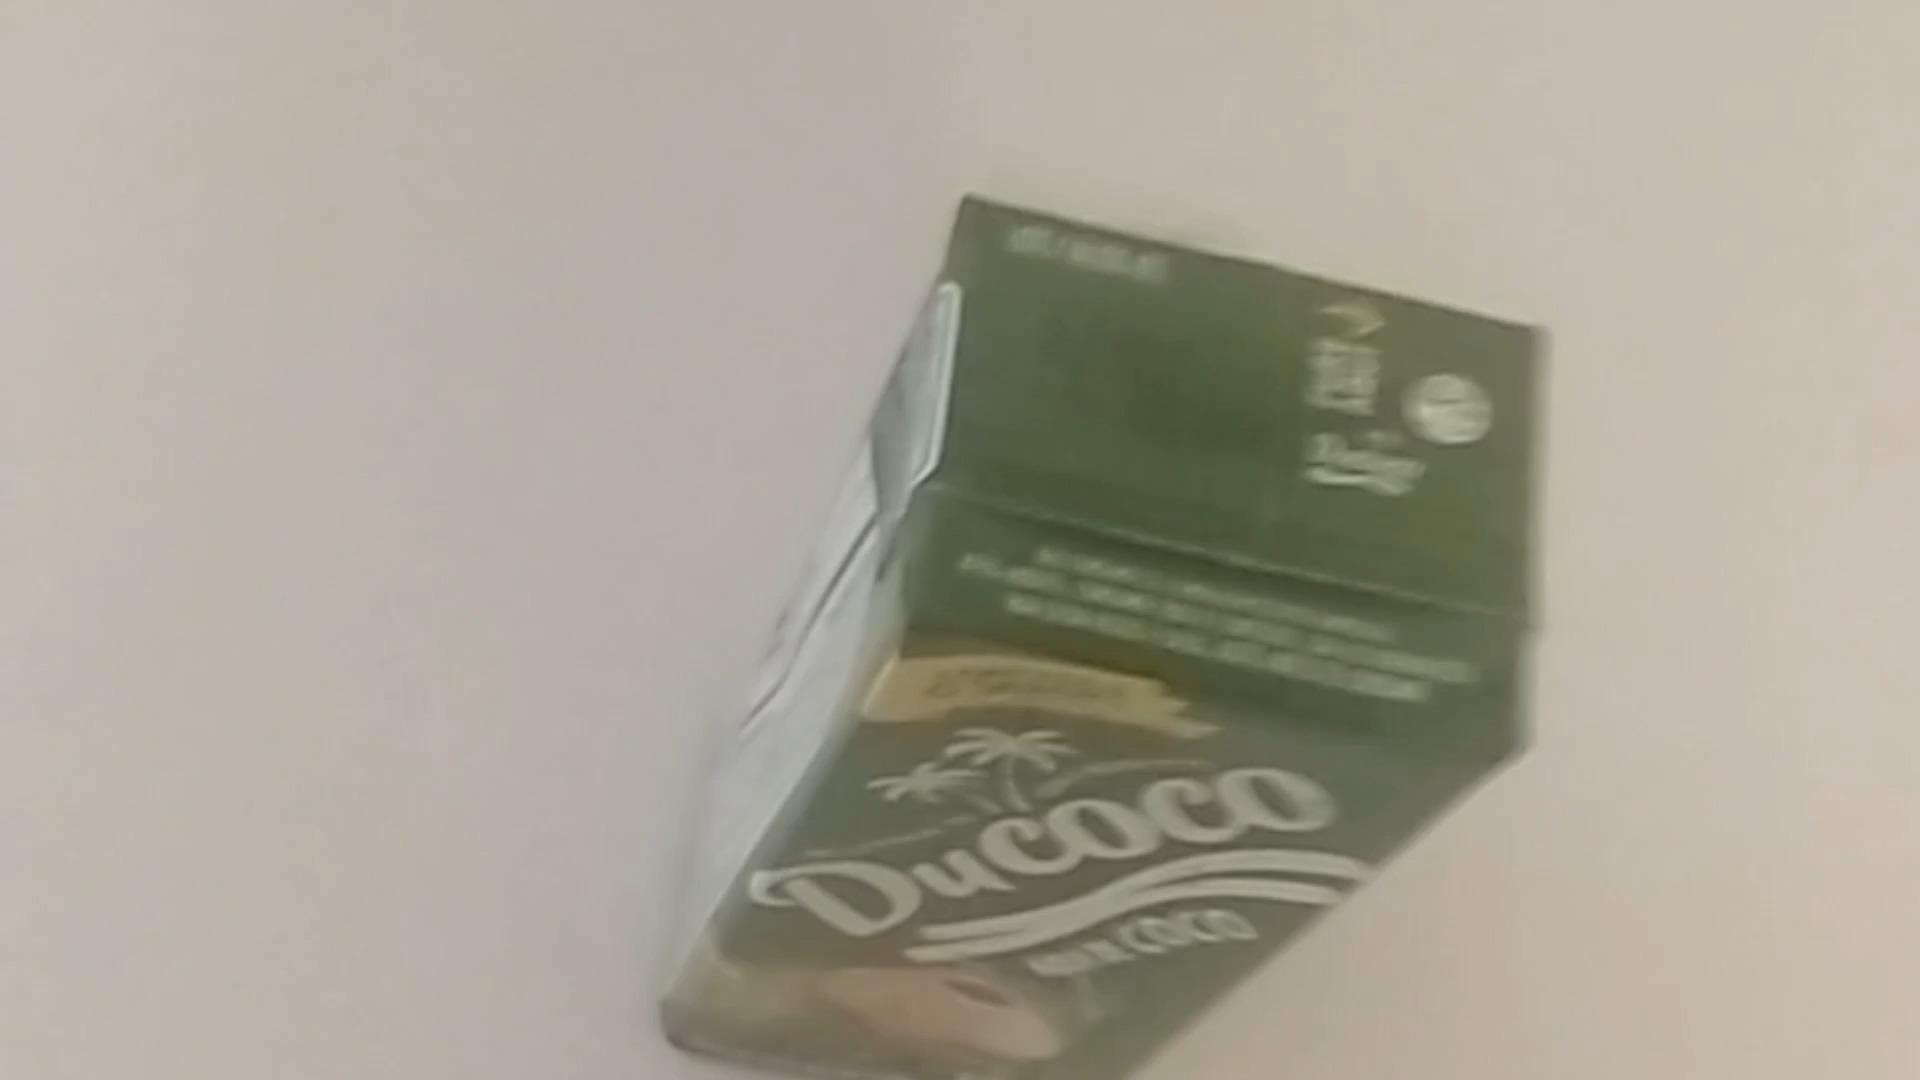coco: (649, 195, 1548, 1080)
